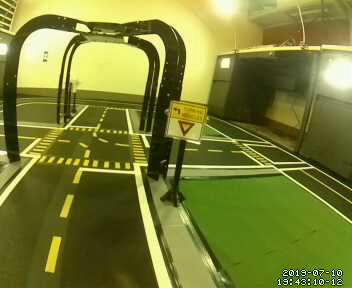Turn Yield: (165, 99, 206, 147)
